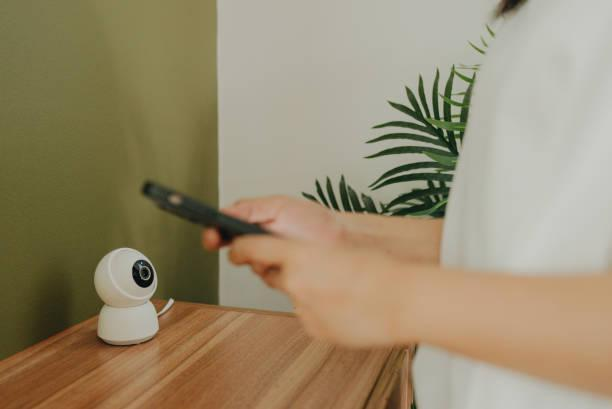camera: (86, 243, 173, 352)
